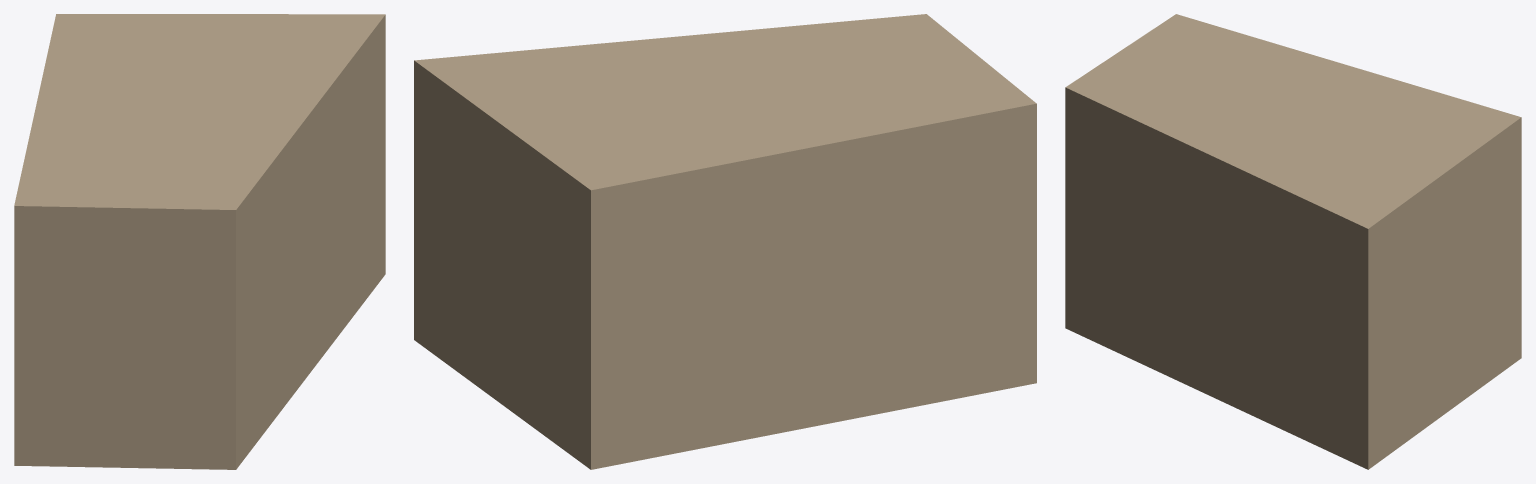
File: bld_101353655.dae
3 views of the same model, side by side, from view 1: azimuth 30°, elevation 25°; view 2: azimuth 150°, elevation 25°; view 3: azimuth 270°, elevation 25° (orthographic). The views are drawn at different scales.
Visible parts, largest first — view 1: bld_101353655; view 2: bld_101353655; view 3: bld_101353655.
Part boxes in pixels (box(x1,y1,x2,y2)): bld_101353655: box(14, 14, 385, 469); bld_101353655: box(414, 14, 1036, 469); bld_101353655: box(1065, 14, 1521, 469).
Size of the model in its own units: 15.31 by 13.72 by 8.
